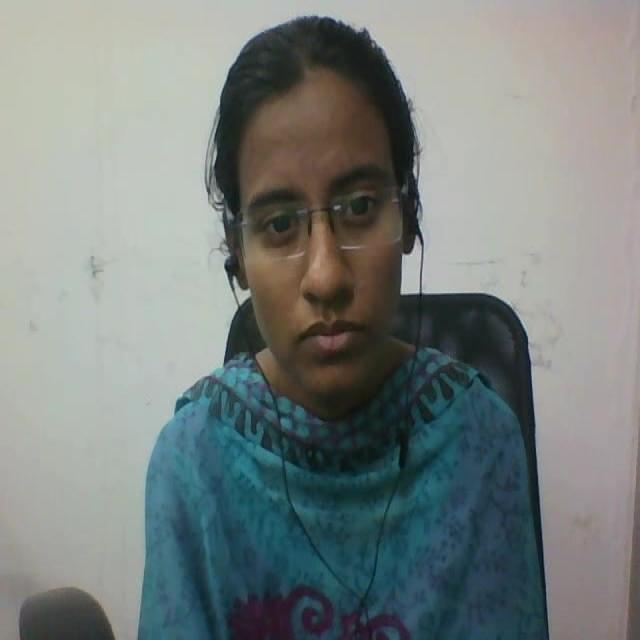Bored: (199, 2, 428, 401)
